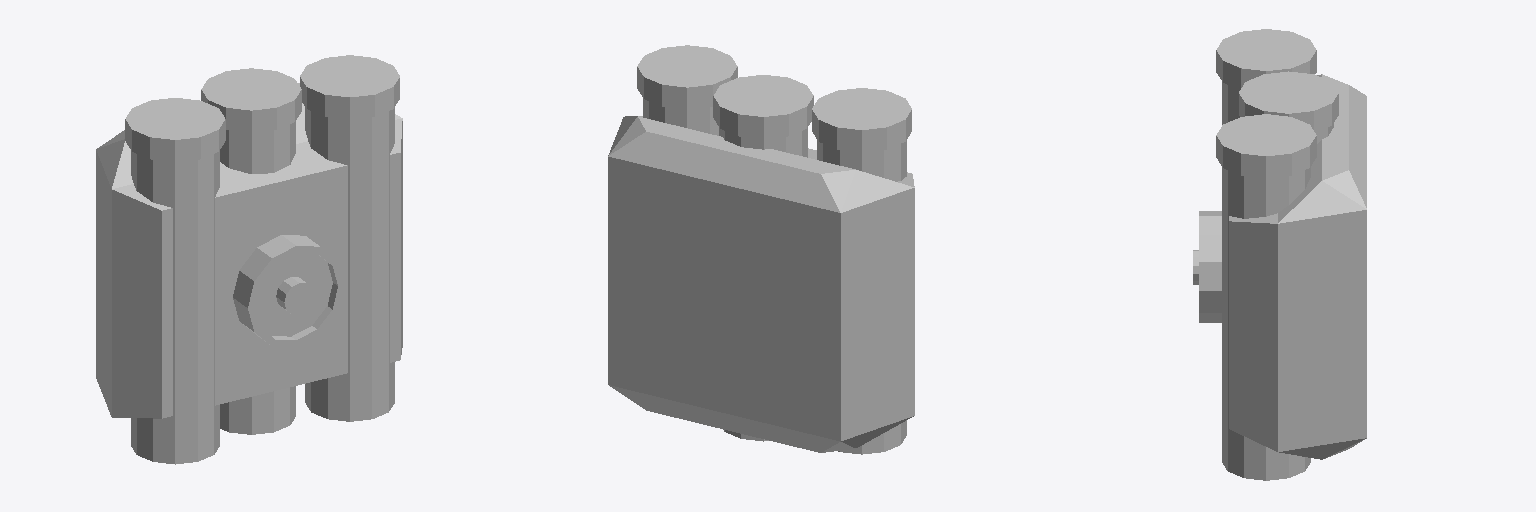
The model's file is Port.obj.
3 renders of one model, left to right at view 1: azimuth 30°, elevation 25°; view 2: azimuth 150°, elevation 25°; view 3: azimuth 270°, elevation 25°, orthographic.
Visible parts, largest first — view 1: Port_Cube.003; view 2: Port_Cube.003; view 3: Port_Cube.003.
Part boxes in pixels (x1,y1,x2,y2): Port_Cube.003: (96,55,402,464); Port_Cube.003: (608,45,914,454); Port_Cube.003: (1193,29,1366,480).
Bounding box in the file's own units: 3 × 3.22 × 1.56.